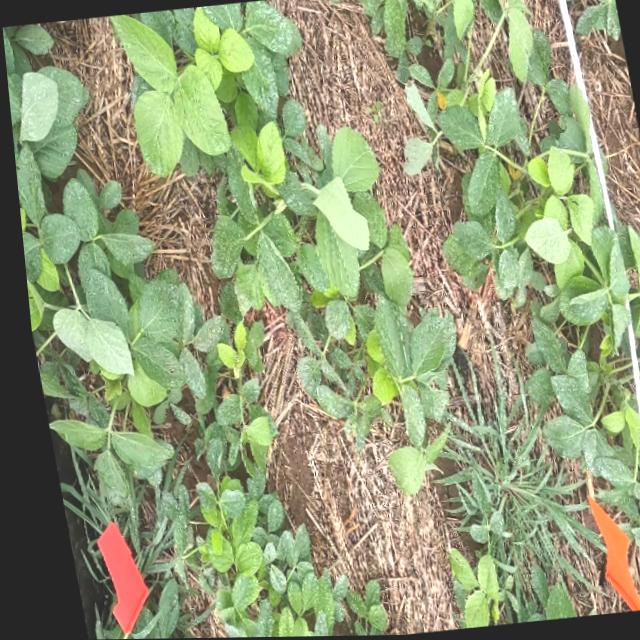grassy_weed: (429, 363, 588, 612), (50, 447, 191, 586)
soy_plant: (112, 1, 447, 486), (359, 0, 640, 554), (2, 26, 215, 504), (186, 325, 335, 638), (438, 550, 563, 629), (119, 580, 168, 639), (332, 580, 375, 637), (186, 349, 215, 414), (576, 0, 620, 41), (236, 320, 257, 371)
